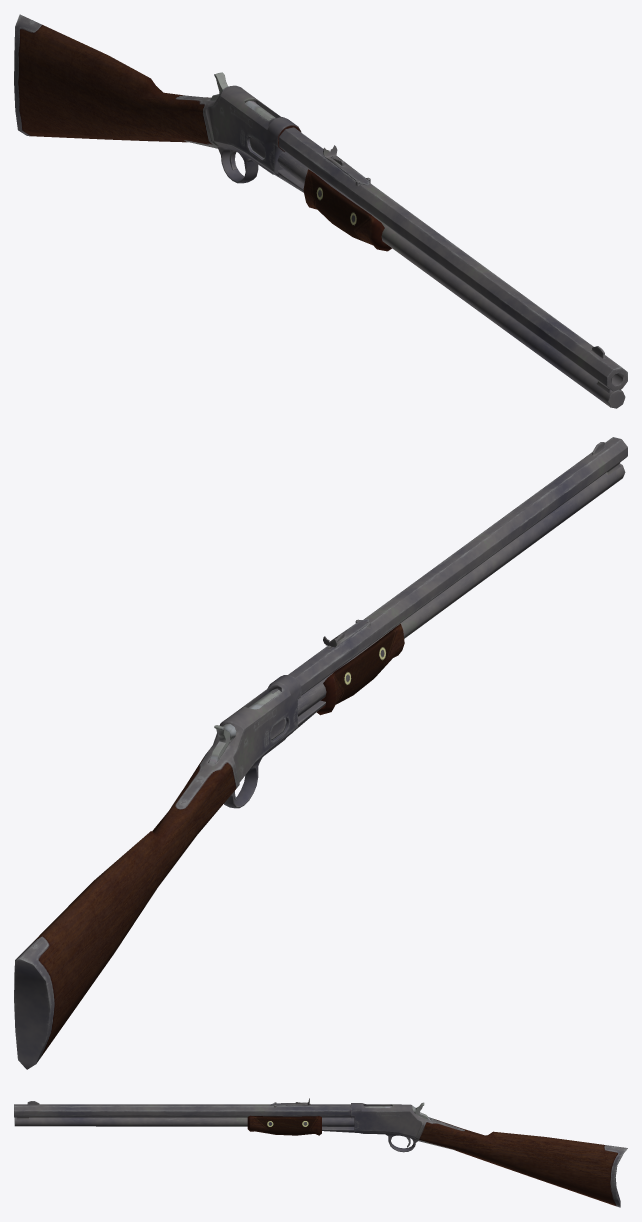
The model's file is lightning-pump-action-rifle__lightning_pump_action_0__colt_lightning139.glb.
3 views of the same model, one above another, from view 1: azimuth 30°, elevation 25°; view 2: azimuth 150°, elevation 25°; view 3: azimuth 270°, elevation 25° (orthographic). The views are drawn at different scales.
Parts seen in each view (by area): view 1: LightningRifle; view 2: LightningRifle; view 3: LightningRifle.
Part boxes in pixels (x1=…): LightningRifle: x1=14, y1=14, x2=627, y2=408; LightningRifle: x1=14, y1=437, x2=627, y2=1069; LightningRifle: x1=14, y1=1098, x2=627, y2=1207.
Bounding box in the file's own units: 0.0344 × 0.1885 × 0.968.
1 material, 1 textured.
